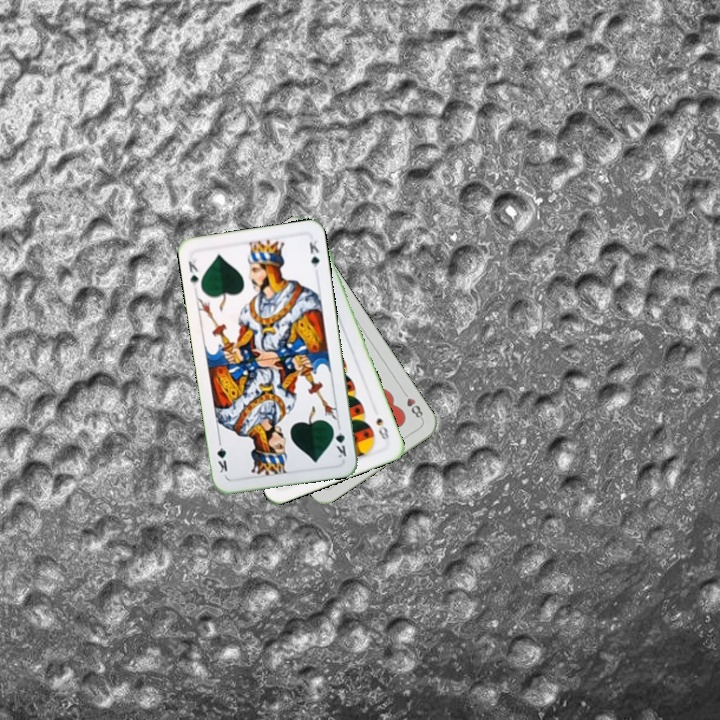GK: (329, 421, 349, 460), (184, 253, 201, 289)
H8: (398, 386, 426, 422)
S8: (372, 414, 392, 442)
